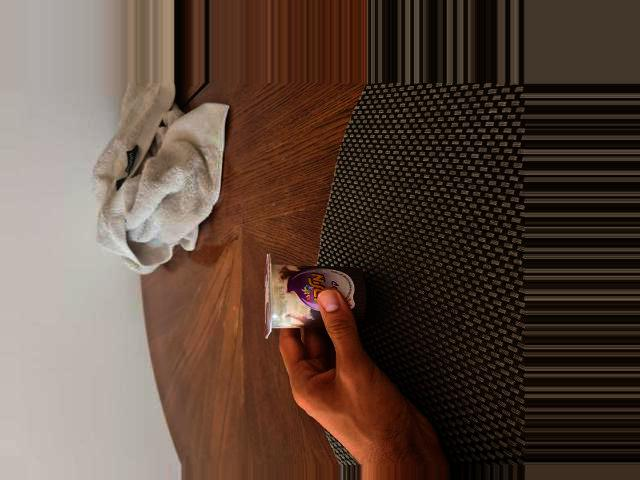milky: (264, 254, 371, 340)
